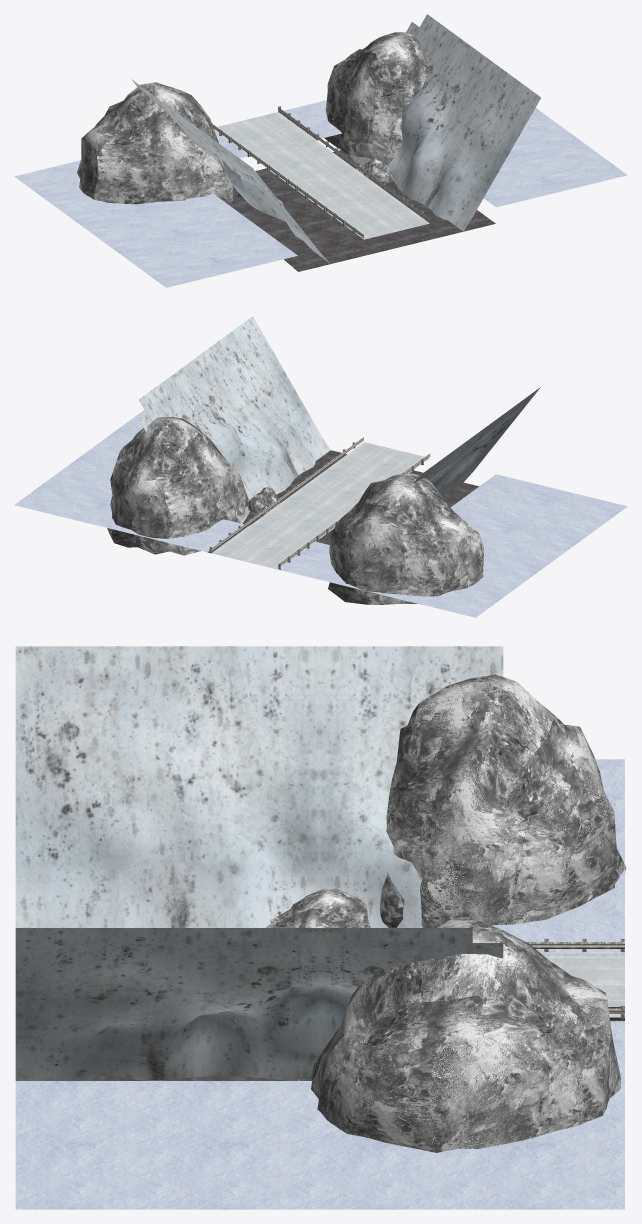
File: scene6_start.FBX
3 renders of one model, top to bottom at view 1: azimuth 30°, elevation 25°; view 2: azimuth 150°, elevation 25°; view 3: azimuth 270°, elevation 25°, orthographic. The views are drawn at different scales.
Visible parts, largest first — view 1: wall001, scene6_start (×2), road015; view 2: wall001, scene6_start (×2), road015; view 3: wall001, scene6_start, road015.
Part boxes in pixels (<box>): wall001: <box>77,14,541,263</box>; scene6_start (×2): <box>14,100,627,287</box>; road015: <box>212,106,430,239</box>; wall001: <box>107,316,540,604</box>; scene6_start (×2): <box>14,410,627,617</box>; road015: <box>209,437,430,569</box>; wall001: <box>15,646,626,1152</box>; scene6_start: <box>15,759,624,1209</box>; road015: <box>526,938,624,1018</box>.
Bounding box in the file's own units: 140 × 36.38 × 80.16.
